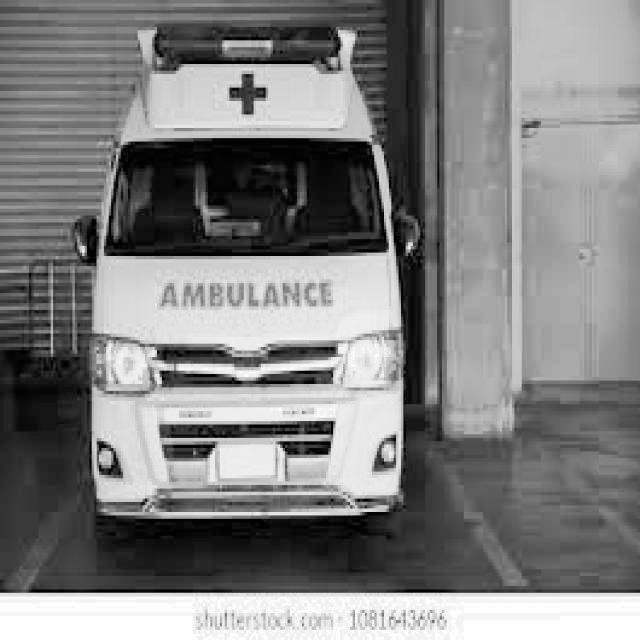LCV: (91, 18, 402, 516)
